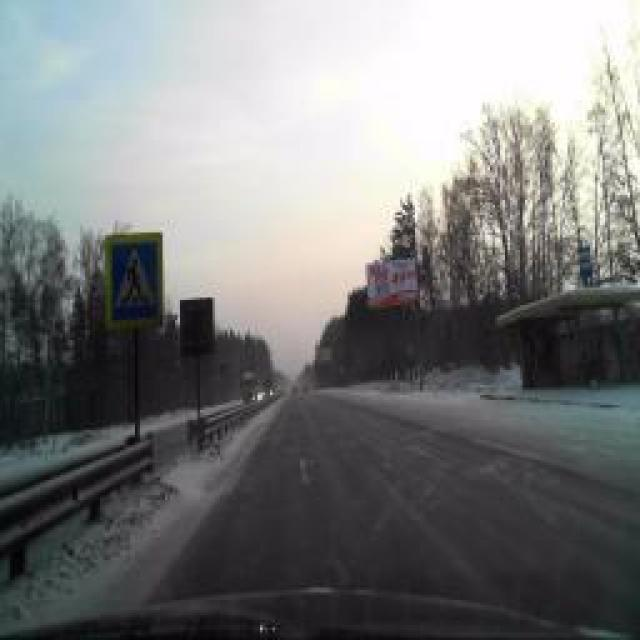sign: (579, 248, 591, 278)
